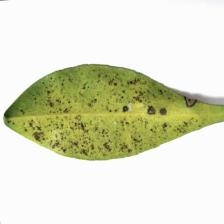canker: (23, 70, 202, 162)
